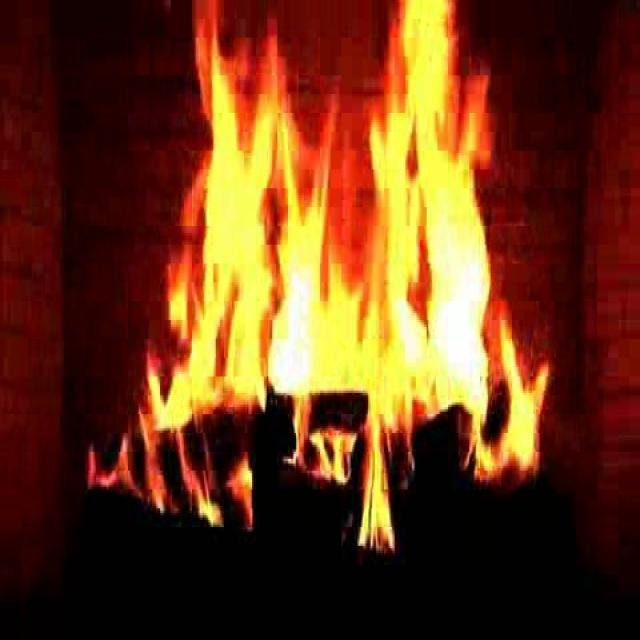Fire: (62, 9, 561, 577)
